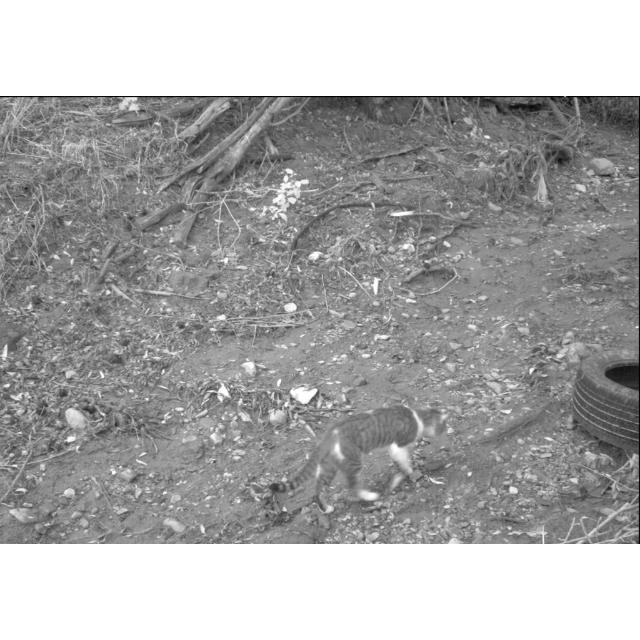animals: (266, 402, 442, 518)
